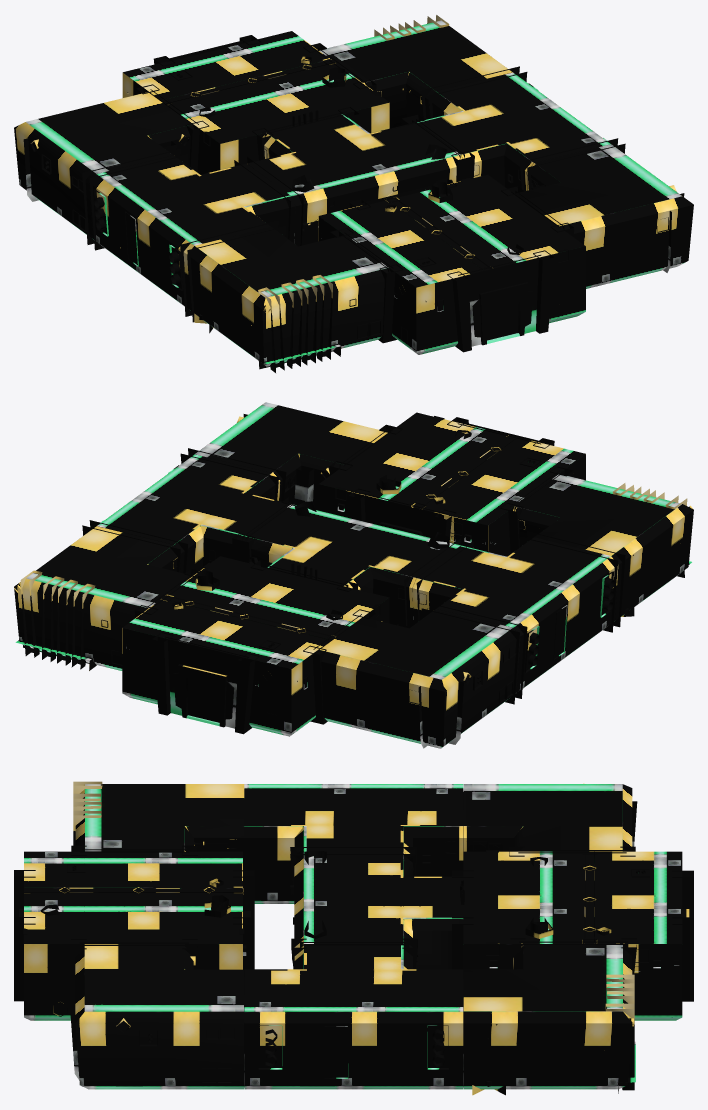
Rendered from Combined_Mesh_root_scene__21_87b8b529__zombies2_diffuse_12_078cf75e_c1f257.obj.
The picture shows the model from 3 angles, top to bottom: view 1: azimuth 30°, elevation 25°; view 2: azimuth 150°, elevation 25°; view 3: azimuth 270°, elevation 25°; orthographic projection. The views are drawn at different scales.
Bounding box in the file's own units: 52.07 × 9.64 × 62.1.
Materials: 148 (148 with a texture image).
